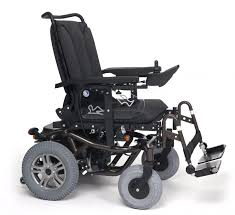wheelchair: (14, 7, 222, 212)
